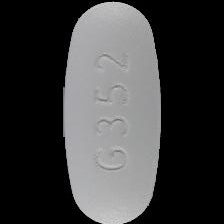68084-328: (0, 0, 224, 224)
